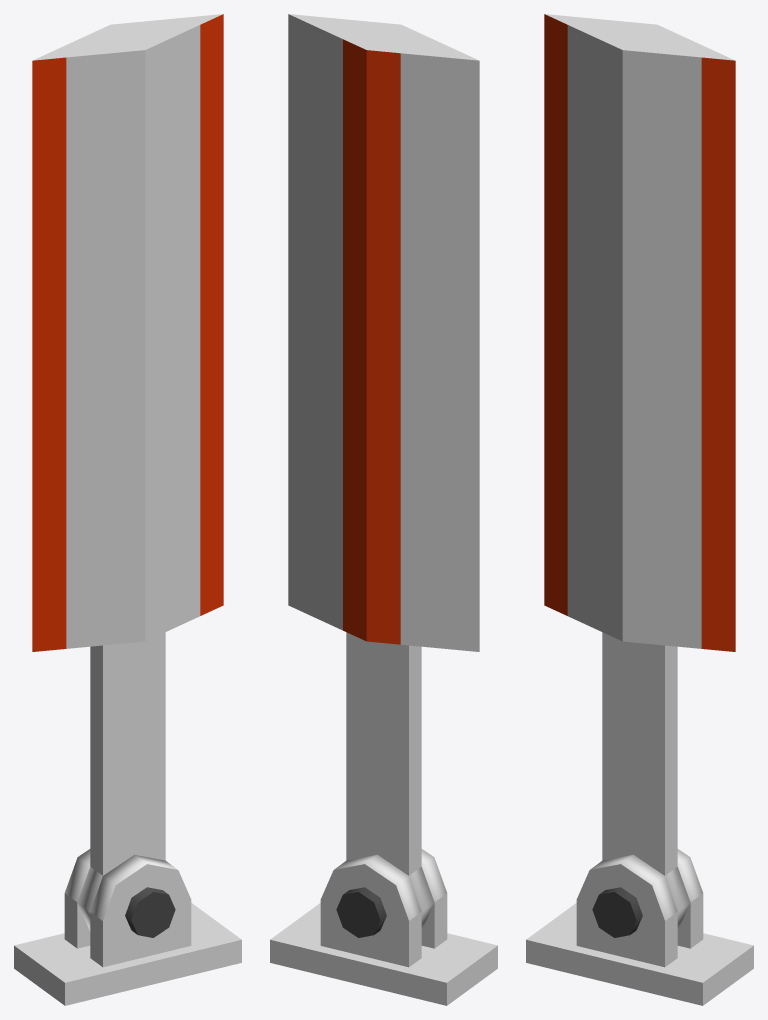
The model's file is pendulum_blade.fbx.
3 views of the same model, side by side, from view 1: azimuth 30°, elevation 25°; view 2: azimuth 150°, elevation 25°; view 3: azimuth 330°, elevation 25° (orthographic).
Visible parts, largest first — view 1: Blade, Pivot, Pendulum; view 2: Blade, Pivot, Pendulum; view 3: Blade, Pivot, Pendulum.
Part boxes in pixels (bbox=[...]): Blade: bbox=[32, 14, 223, 651]; Pivot: bbox=[14, 849, 241, 1005]; Pendulum: bbox=[77, 632, 165, 931]; Blade: bbox=[288, 14, 479, 651]; Pivot: bbox=[270, 849, 497, 1005]; Pendulum: bbox=[346, 632, 434, 931]; Blade: bbox=[544, 14, 735, 651]; Pivot: bbox=[526, 849, 753, 1005]; Pendulum: bbox=[602, 632, 690, 931].
Bounding box in the file's own units: 86.58 × 401 × 40.
